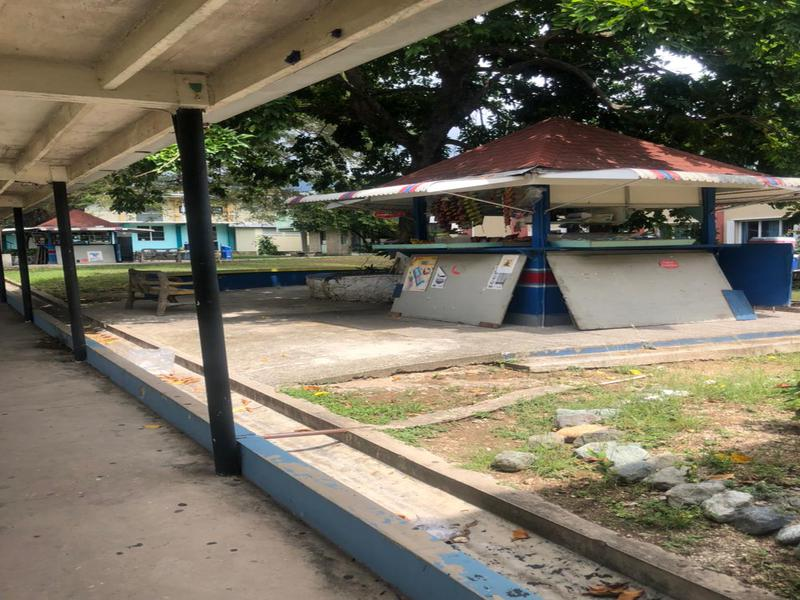stall: (279, 115, 800, 334)
stone_bench: (120, 262, 196, 324)
